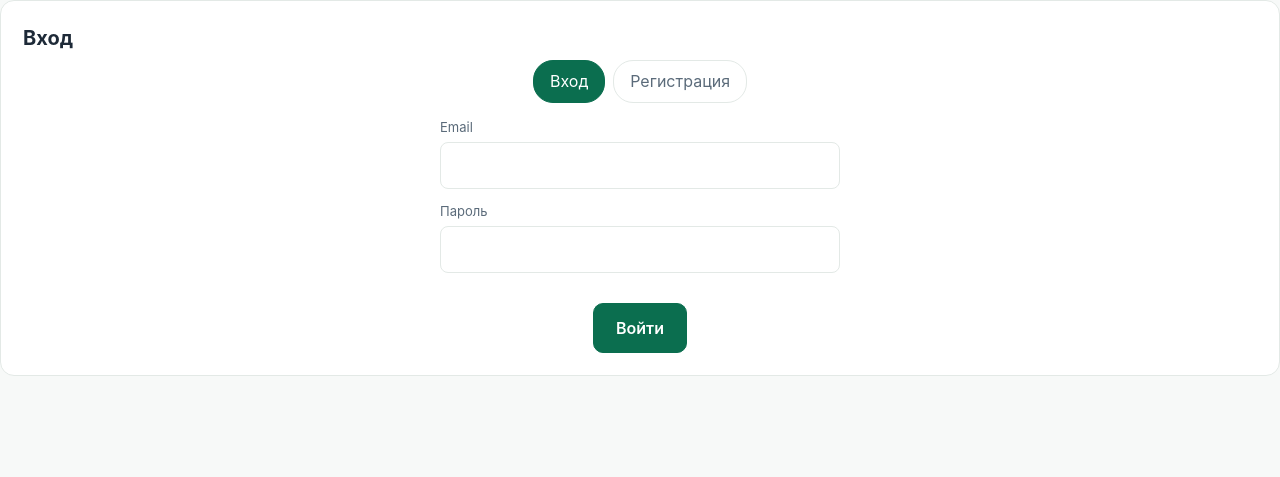
AuthForm › switches mode
Click the button "Регистрация" at coordinates (680, 81), box 613,60 -> 747,103
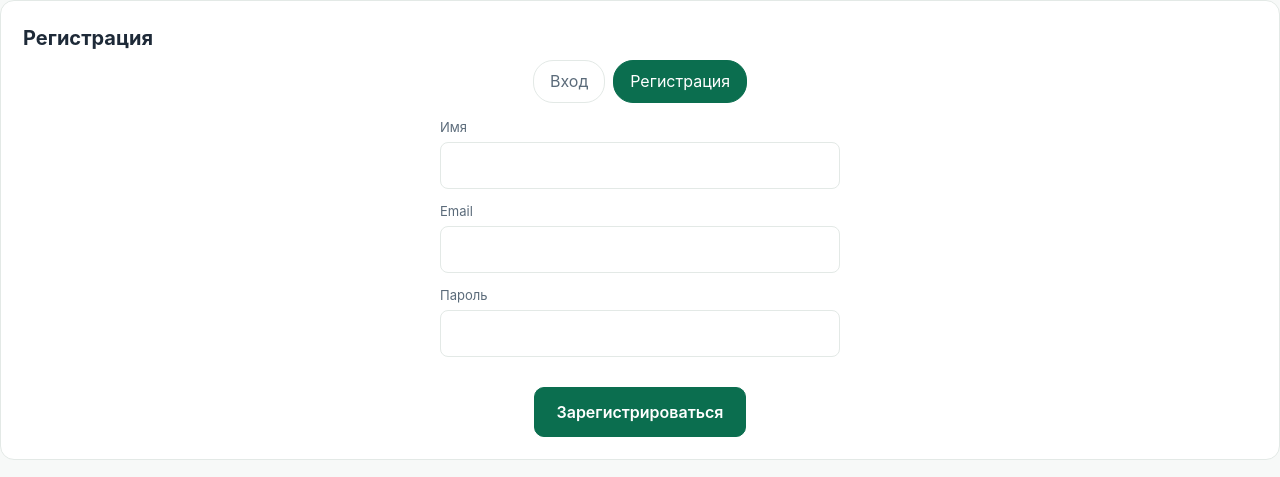
Expected: the button "Зарегистрироваться" is shown, 534,387 -> 746,437
Click the button "Вход" at coordinates (569, 81), box 533,60 -> 605,103
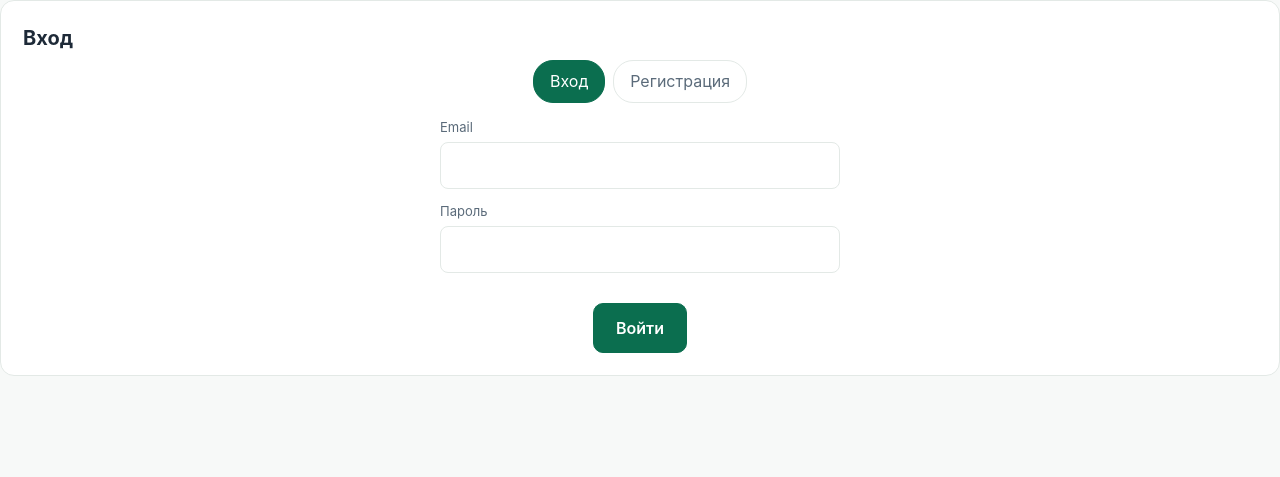
Expected: the button "Войти" is shown, 593,303 -> 687,354
